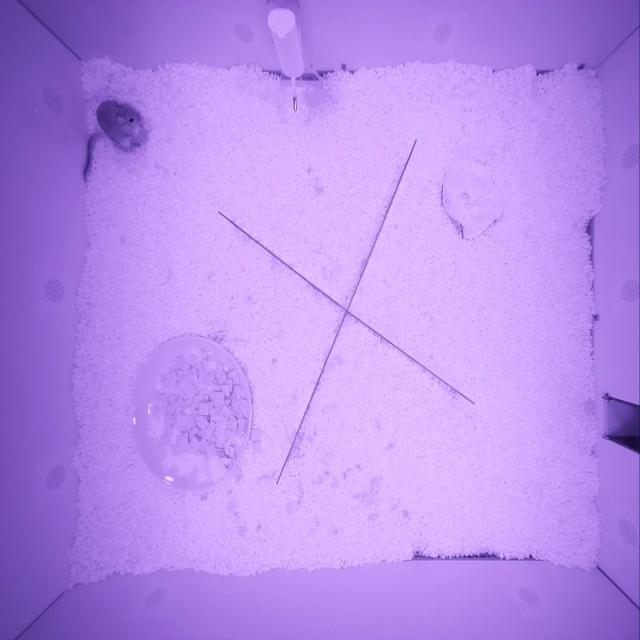adult_back: (95, 100, 147, 153)
